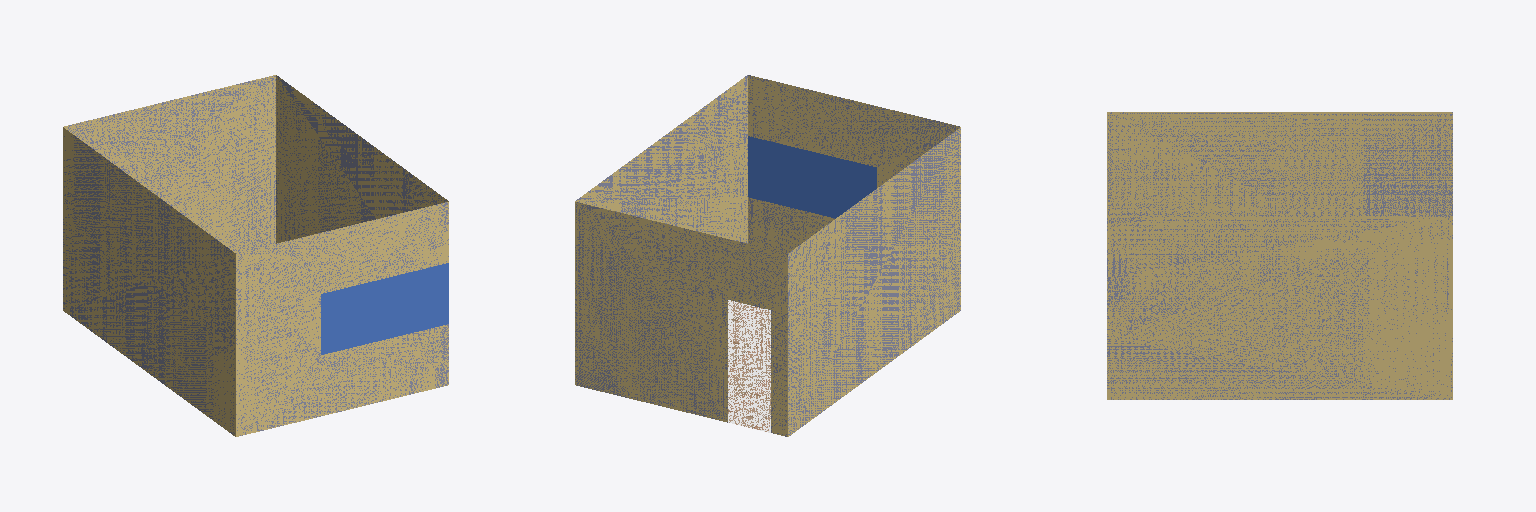
3 views of the same model, side by side, from view 1: azimuth 30°, elevation 25°; view 2: azimuth 150°, elevation 25°; view 3: azimuth 270°, elevation 25° (orthographic).
Visible parts, largest first — view 1: Mesh1 DES03 Model; view 2: Mesh1 DES03 Model; view 3: Mesh1 DES03 Model.
Boxes of the visible parts, x1=… form: Mesh1 DES03 Model: x1=63, y1=75, x2=448, y2=436; Mesh1 DES03 Model: x1=575, y1=75, x2=960, y2=436; Mesh1 DES03 Model: x1=1107, y1=112, x2=1452, y2=399.
Size of the model in its own units: 3.64 by 3 by 5.12.
5 materials, 1 textured.